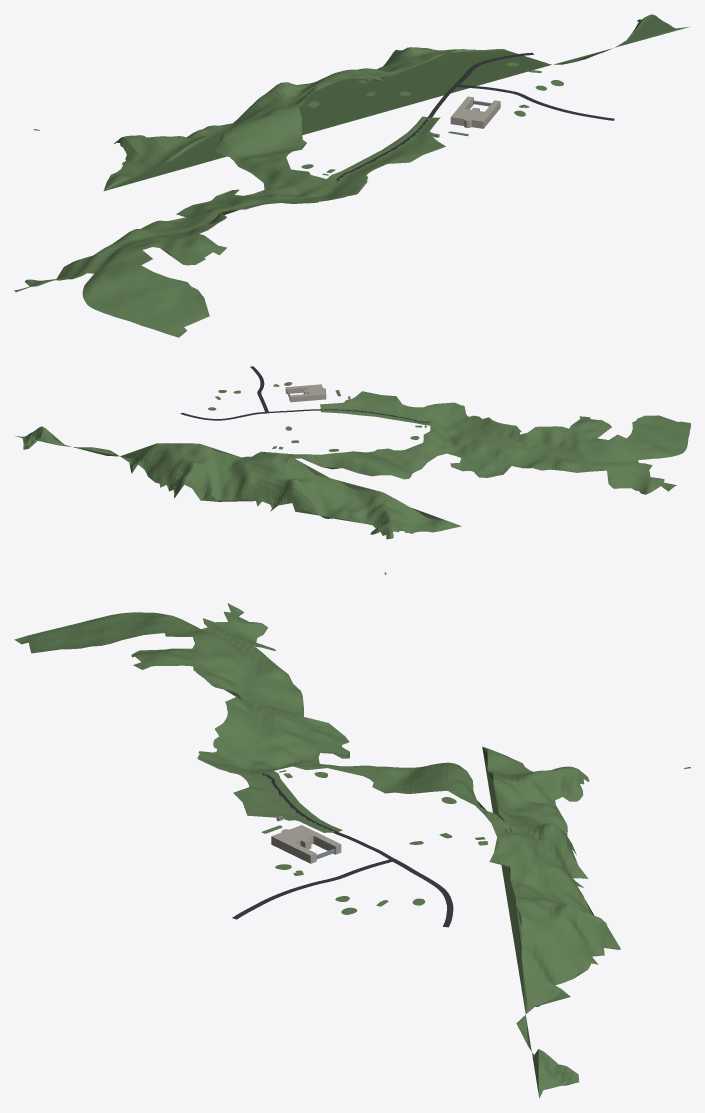
The model's file is tile_2_11.glb.
3 views of the same model, one above another, from view 1: azimuth 30°, elevation 25°; view 2: azimuth 150°, elevation 25°; view 3: azimuth 270°, elevation 25° (orthographic). The views are drawn at different scales.
Visible parts, largest first — view 1: grn_2_11, road_2_11, bld_2_11; view 2: grn_2_11, road_2_11, bld_2_11; view 3: grn_2_11, road_2_11, bld_2_11.
Part boxes in pixels (bbox=[...]): grn_2_11: bbox=[14, 14, 690, 337]; road_2_11: bbox=[335, 52, 614, 181]; bld_2_11: bbox=[433, 96, 500, 137]; grn_2_11: bbox=[15, 382, 690, 574]; road_2_11: bbox=[180, 366, 430, 422]; bld_2_11: bbox=[285, 384, 350, 402]; grn_2_11: bbox=[14, 603, 690, 1097]; road_2_11: bbox=[232, 773, 453, 927]; bld_2_11: bbox=[271, 815, 341, 863].
Bounding box in the file's own units: 1550 × 134 × 961.
